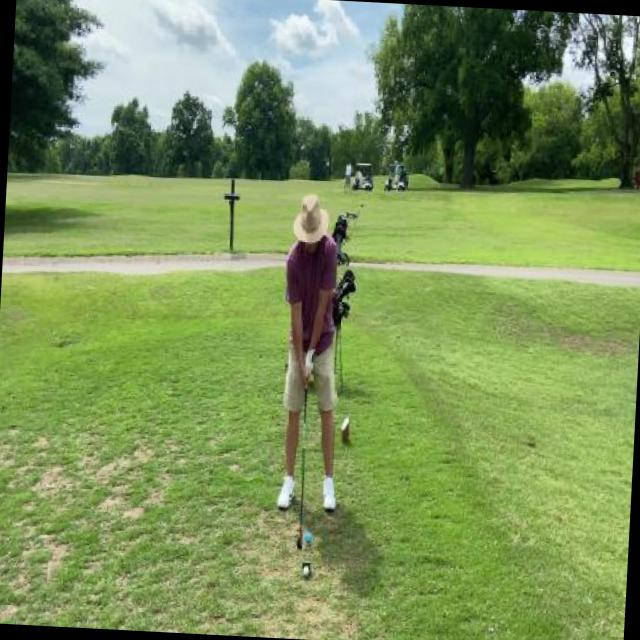club head: (296, 528, 304, 550)
